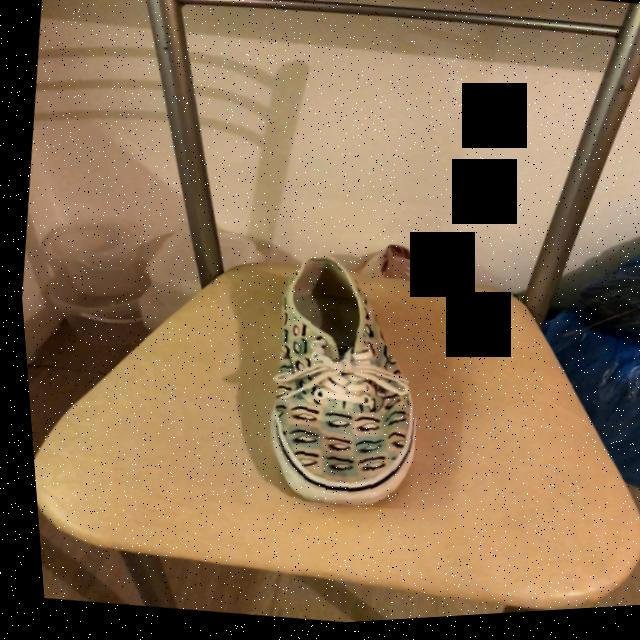shoe: (265, 263, 410, 511)
